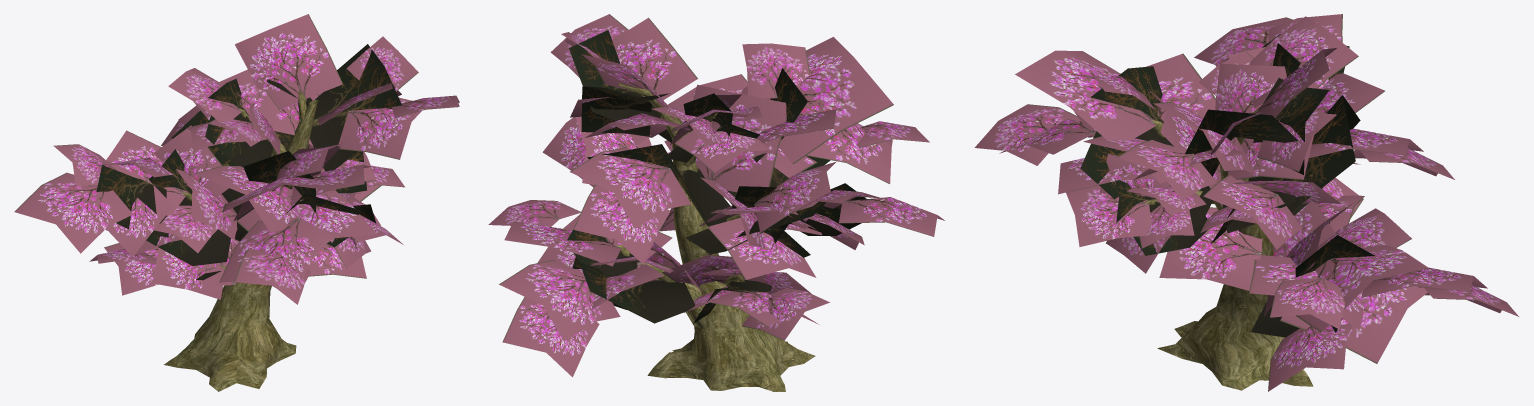
File: Scene_Tree_HongShu_2.FBX
3 views of the same model, side by side, from view 1: azimuth 30°, elevation 25°; view 2: azimuth 150°, elevation 25°; view 3: azimuth 270°, elevation 25° (orthographic). The views are drawn at different scales.
Visible parts, largest first — view 1: Scene_Tree_HongShu_2b, Scene_Tree_HongShu_2a; view 2: Scene_Tree_HongShu_2b, Scene_Tree_HongShu_2a; view 3: Scene_Tree_HongShu_2b, Scene_Tree_HongShu_2a.
Part boxes in pixels (x1=…): Scene_Tree_HongShu_2b: x1=14, y1=14, x2=459, y2=304; Scene_Tree_HongShu_2a: x1=164, y1=90, x2=318, y2=391; Scene_Tree_HongShu_2b: x1=488, y1=14, x2=944, y2=377; Scene_Tree_HongShu_2a: x1=615, y1=83, x2=815, y2=391; Scene_Tree_HongShu_2b: x1=974, y1=14, x2=1518, y2=391; Scene_Tree_HongShu_2a: x1=1145, y1=96, x2=1313, y2=390.
Size of the model in its own units: 1407 by 977 by 1383.
